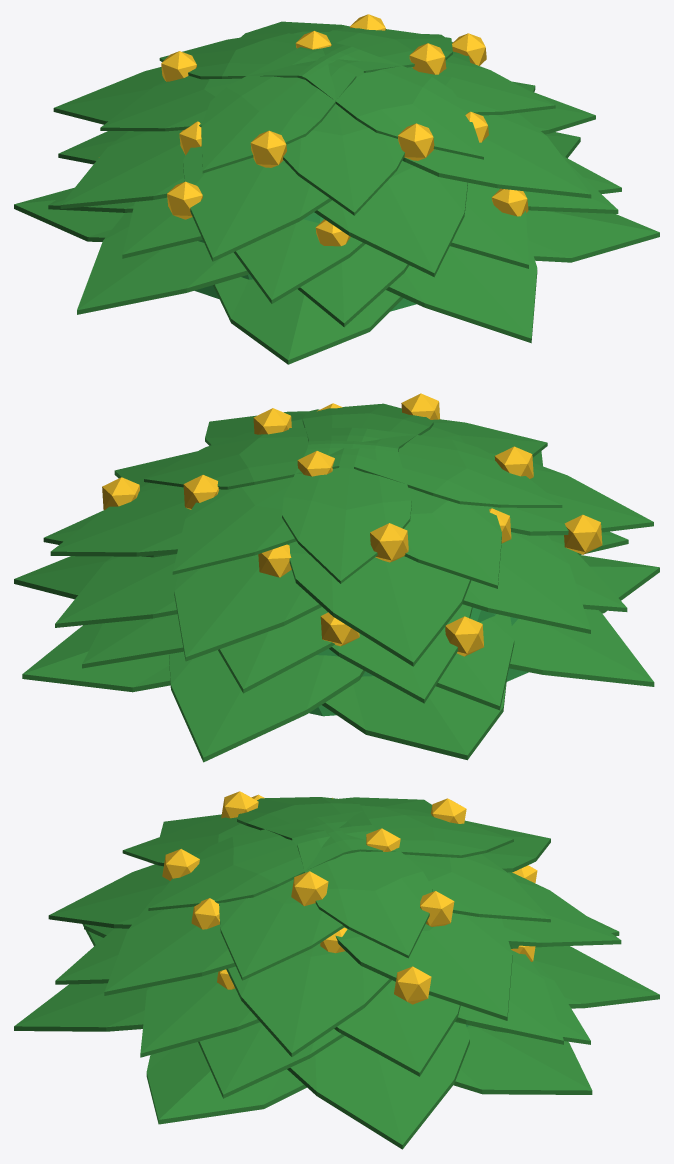
The model's file is BushLYellowFruits.fbx.
3 renders of one model, top to bottom at view 1: azimuth 30°, elevation 25°; view 2: azimuth 150°, elevation 25°; view 3: azimuth 270°, elevation 25°, orthographic. The views are drawn at different scales.
Parts seen in each view (by area): view 1: BushLYellowFruits; view 2: BushLYellowFruits; view 3: BushLYellowFruits.
Part boxes in pixels (left/top/right/bottom): BushLYellowFruits: left=14, top=14, right=659, bottom=364; BushLYellowFruits: left=14, top=393, right=659, bottom=762; BushLYellowFruits: left=14, top=791, right=659, bottom=1149.
Bounding box in the file's own units: 1000 × 320 × 1007.
